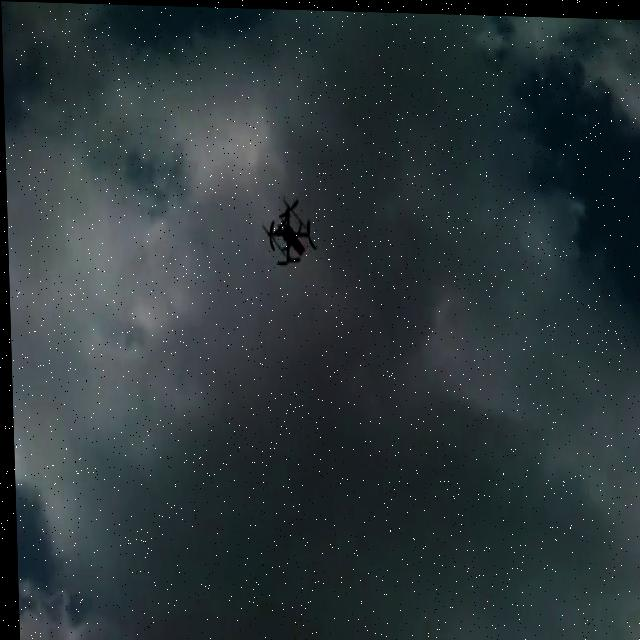drone: (262, 197, 317, 268)
